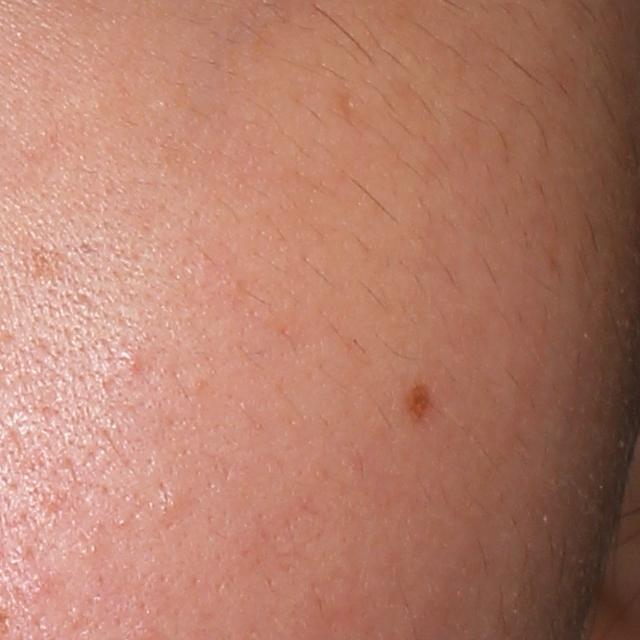comedo: (156, 487, 188, 525)
nevus: (405, 380, 437, 426)
